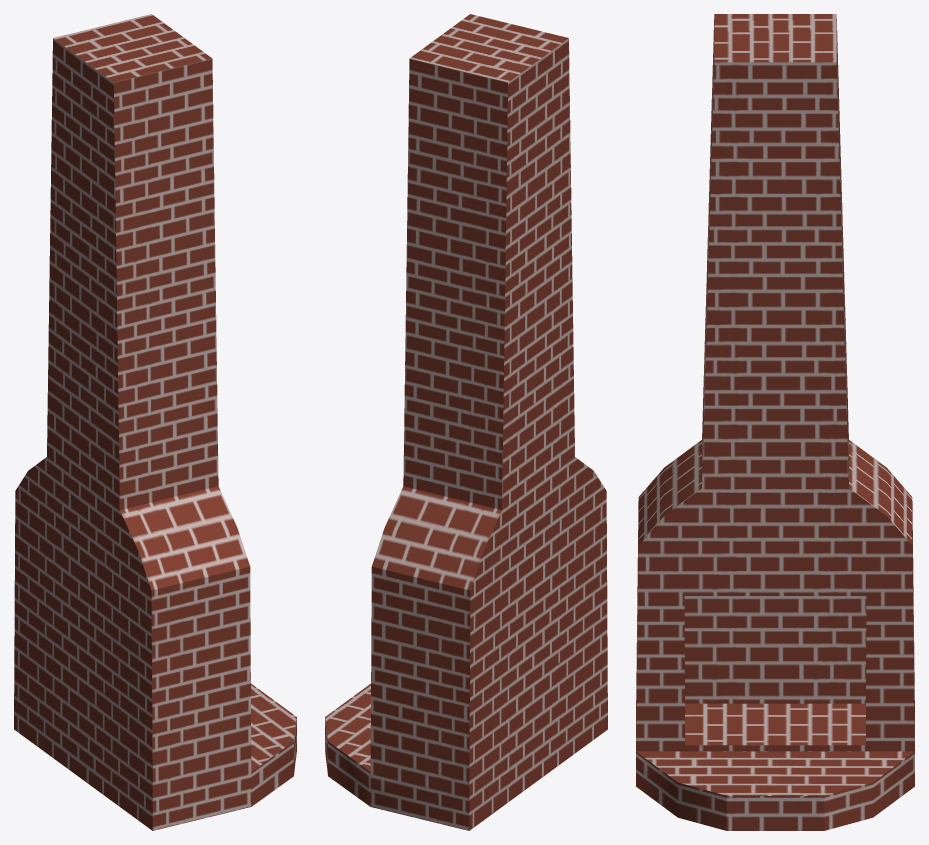
Rendered from fireplace.fbx.
3 renders of one model, left to right at view 1: azimuth 30°, elevation 25°; view 2: azimuth 150°, elevation 25°; view 3: azimuth 270°, elevation 25°, orthographic.
Parts seen in each view (by area): view 1: fireplace; view 2: fireplace; view 3: fireplace.
Boxes of the visible parts, x1,y1,x2,y2 form: fireplace: (14,14,296,830); fireplace: (325,14,607,830); fireplace: (636,14,914,830).
Size of the model in its own units: 1.92 by 6.97 by 2.43.
